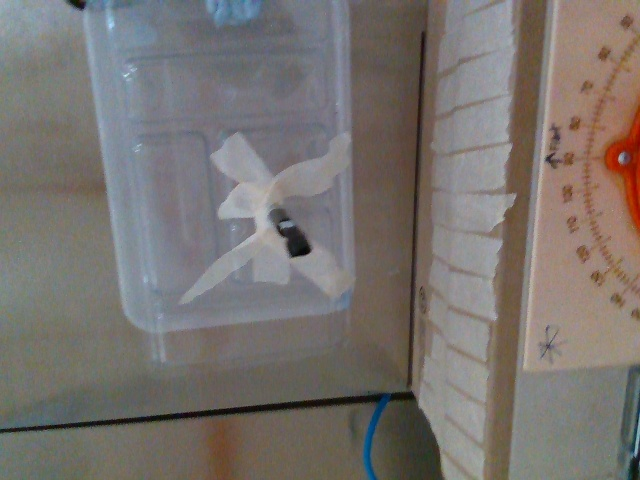test_strip: (280, 217, 312, 260)
